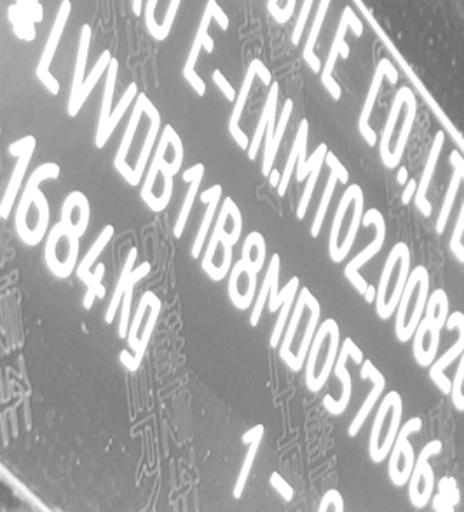letter: (249, 253, 299, 343), (112, 93, 159, 183), (139, 124, 186, 210), (33, 0, 72, 97), (68, 24, 108, 118), (200, 194, 242, 278), (276, 286, 317, 372), (94, 59, 133, 149), (322, 337, 365, 417), (166, 157, 206, 239), (228, 229, 268, 305), (186, 182, 224, 260), (346, 358, 385, 434), (386, 412, 424, 486), (305, 316, 341, 390), (366, 390, 404, 458), (407, 438, 445, 506)
